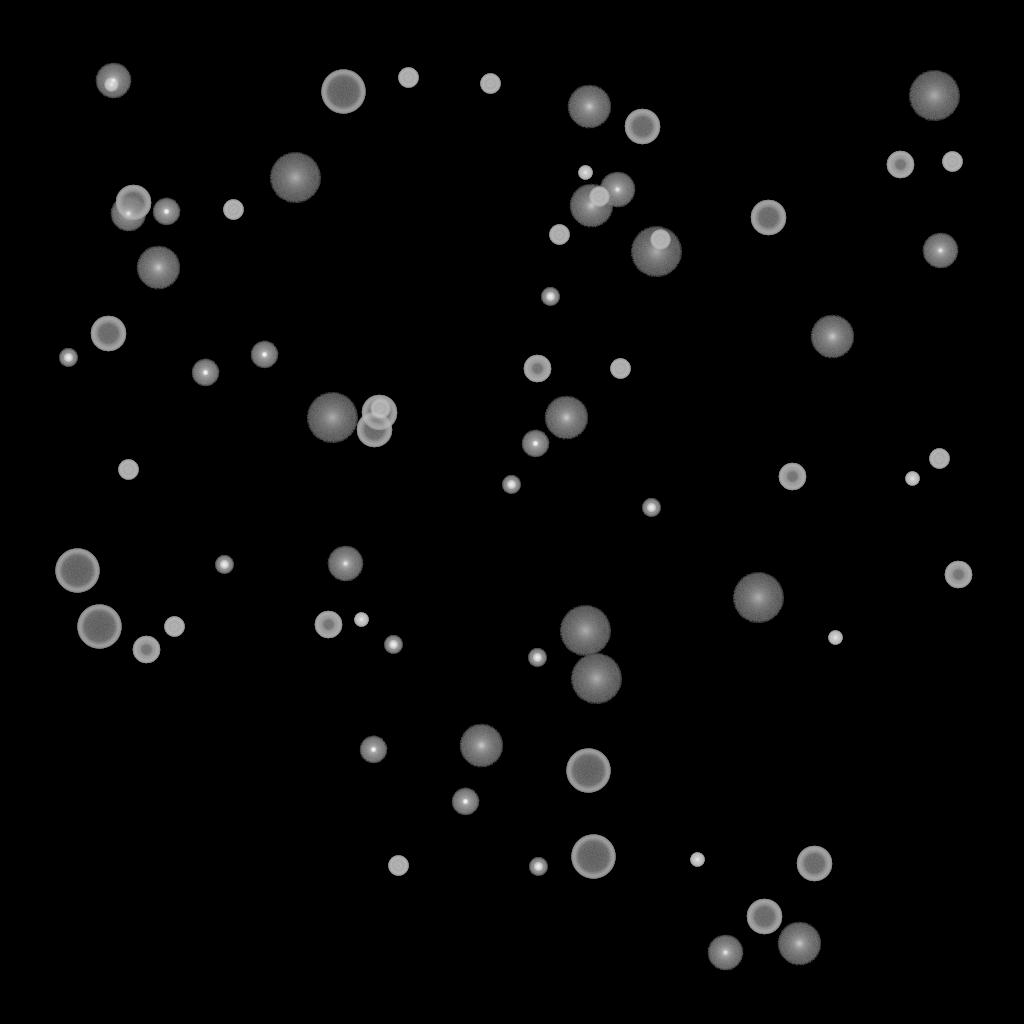depth:-10: (152, 198, 180, 226), (521, 430, 549, 458), (250, 341, 278, 369), (359, 736, 387, 764), (451, 788, 479, 816), (191, 359, 219, 387)
depth:-20: (541, 288, 559, 306), (215, 556, 233, 574), (529, 858, 547, 876), (642, 499, 660, 517), (384, 636, 402, 654), (502, 476, 520, 494), (528, 649, 546, 667), (59, 349, 77, 367)
depth:-30: (905, 472, 919, 486), (578, 166, 592, 180), (690, 853, 704, 867), (354, 613, 368, 627), (104, 78, 118, 92), (828, 631, 842, 645)
depth:-40: (164, 617, 184, 637), (223, 200, 243, 220), (929, 449, 949, 469), (118, 460, 138, 480), (480, 74, 500, 94), (388, 856, 408, 876), (589, 187, 609, 207), (370, 399, 390, 419), (610, 359, 630, 379), (650, 230, 670, 250), (549, 225, 569, 245), (942, 152, 962, 172), (398, 68, 418, 88)
depth:-50: (132, 636, 160, 664), (944, 561, 972, 589), (523, 355, 551, 383), (314, 611, 342, 639), (886, 151, 914, 179), (778, 463, 806, 491)
depth:-60: (746, 899, 782, 935), (750, 200, 786, 236), (115, 185, 151, 221), (624, 109, 660, 145), (90, 316, 126, 352), (361, 395, 397, 431), (796, 846, 832, 882), (356, 412, 392, 448)
depth:-70: (77, 605, 121, 649), (321, 70, 365, 114), (571, 835, 615, 879), (55, 549, 99, 593), (566, 749, 610, 793)
depth:0: (922, 233, 958, 269), (110, 196, 146, 232), (707, 935, 743, 971), (599, 172, 635, 208), (95, 63, 131, 99), (327, 546, 363, 582)
depth:10: (459, 724, 503, 768), (544, 396, 588, 440), (136, 246, 180, 290), (810, 315, 854, 359), (569, 184, 613, 228), (777, 922, 821, 966), (567, 85, 611, 129)
depth:20: (306, 393, 358, 443), (630, 227, 682, 277), (570, 654, 622, 704), (908, 71, 960, 121), (559, 606, 611, 656), (732, 573, 784, 623), (269, 153, 321, 203)
